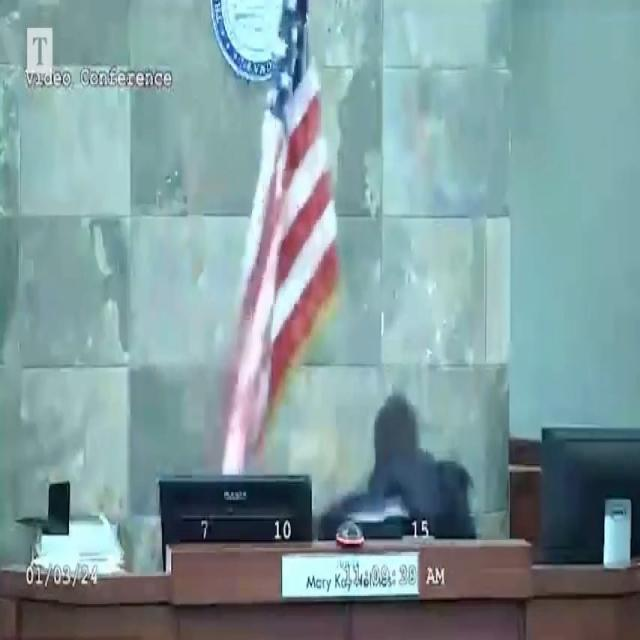non-fight: (319, 383, 477, 541)
